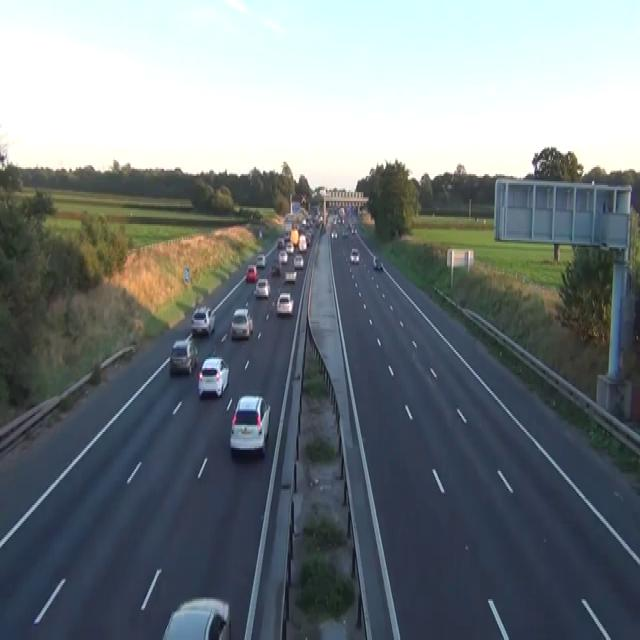Car: (162, 596, 231, 638), (229, 393, 270, 455), (198, 356, 229, 398), (169, 338, 198, 375), (190, 306, 215, 336), (230, 308, 253, 340), (276, 292, 293, 314), (254, 277, 270, 299), (245, 265, 258, 283), (283, 268, 297, 282), (293, 252, 303, 268), (350, 247, 359, 263), (298, 234, 307, 250), (278, 249, 288, 263), (256, 252, 266, 266), (270, 263, 280, 276), (373, 256, 382, 268), (285, 242, 294, 254), (277, 236, 285, 249), (305, 231, 312, 245), (283, 231, 290, 242), (319, 224, 325, 235), (331, 230, 338, 238), (341, 230, 348, 237), (351, 226, 356, 233), (258, 230, 262, 238)
